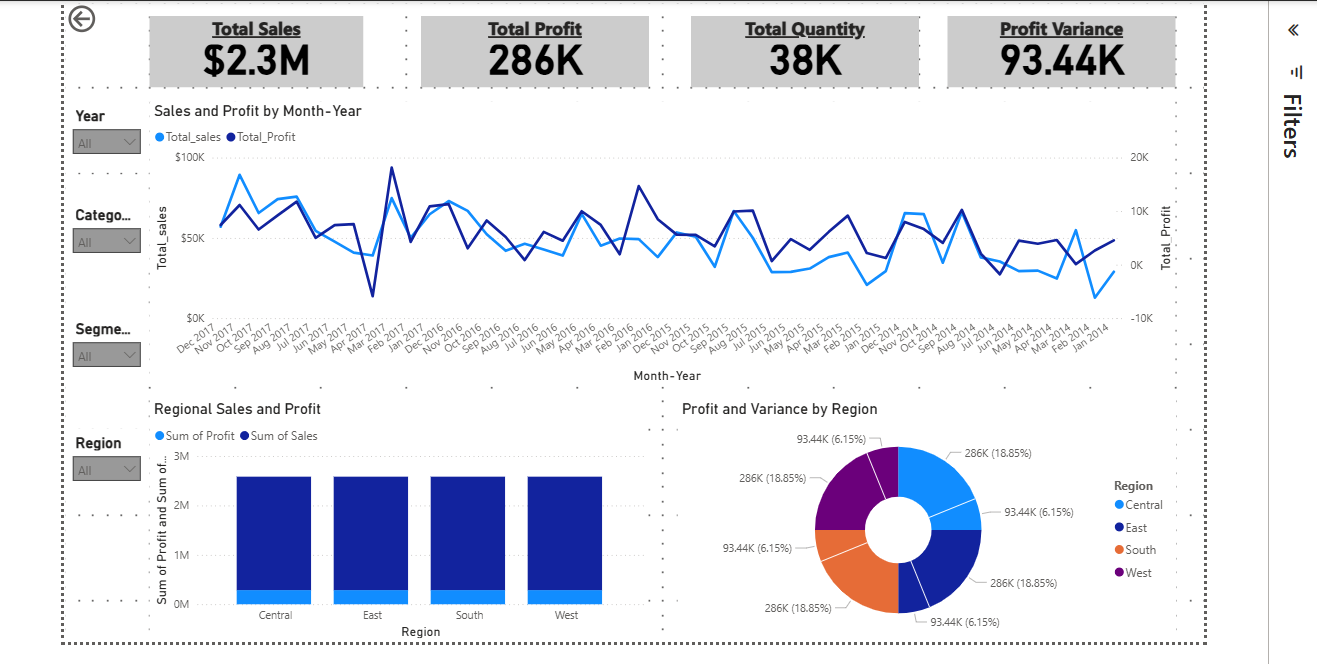

What the dashboard file says about the page in this screenshot:
{"tool":"powerbi","page":{"name":"Sales Overview","canvas":[1280,720],"ordinal":0},"visuals":[{"type":"card","title":"Total Sales","fields":{"Values":["Fact_Sales.Total_sales"]},"box":[96,16,240,80],"z":0},{"type":"actionButton","box":[0,0,100,40],"z":1000},{"type":"card","title":"Total Profit","fields":{"Values":["Fact_Sales.Total_Profit"]},"box":[400,16,256,80],"z":2000},{"type":"card","title":"Total Quantity","fields":{"Values":["Fact_Sales.Total_Quantity"]},"box":[704,16,256,80],"z":3000},{"type":"lineChart","title":"Sales and Profit by Month-Year","fields":{"Y2":["Fact_Sales.Total_Profit"],"Y":["Fact_Sales.Total_sales"],"Category":["Dim_Date.Month-Year"]},"box":[96,112,1152,320],"z":4000},{"type":"columnChart","title":"Regional Sales and Profit","fields":{"Category":["Dim_Region.Region"],"Y":["Sum(Fact_Sales.Profit)","Sum(Fact_Sales.Sales)"]},"box":[96,448,560,272],"z":5000},{"type":"slicer","fields":{"Values":["Dim_Date.Year"]},"box":[0,112,96,80],"z":6000},{"type":"slicer","fields":{"Values":["Dim_Product.Category"]},"box":[0,224,96,80],"z":7000},{"type":"slicer","fields":{"Values":["Dim_Customer.Segment"]},"box":[0,352,96,80],"z":8000},{"type":"slicer","fields":{"Values":["Dim_Region.Region"]},"box":[0,480,96,80],"z":9000},{"type":"card","title":"Profit Variance","fields":{"Values":["Fact_Sales.Profit Variance"]},"box":[992,16,256,80],"z":10000},{"type":"donutChart","title":"Profit and Variance by Region","fields":{"Y":["Fact_Sales.Total_Profit","Fact_Sales.Profit Variance"],"Category":["Dim_Region.Region"]},"box":[688,448,560,272],"z":11000}]}

Visuals, with their boxes on the page's 1280x720 design canvas (x1, y1, x2, y2). These are canvas units, not pixel positions in the 1317x664 screenshot, which may show the page scaled, cropped or inside an application window:
"Total Sales" card: (96,16,336,96)
actionButton: (0,0,100,40)
"Total Profit" card: (400,16,656,96)
"Total Quantity" card: (704,16,960,96)
"Sales and Profit by Month-Year" lineChart: (96,112,1248,432)
"Regional Sales and Profit" columnChart: (96,448,656,720)
slicer - Dim_Date.Year: (0,112,96,192)
slicer - Dim_Product.Category: (0,224,96,304)
slicer - Dim_Customer.Segment: (0,352,96,432)
slicer - Dim_Region.Region: (0,480,96,560)
"Profit Variance" card: (992,16,1248,96)
"Profit and Variance by Region" donutChart: (688,448,1248,720)
